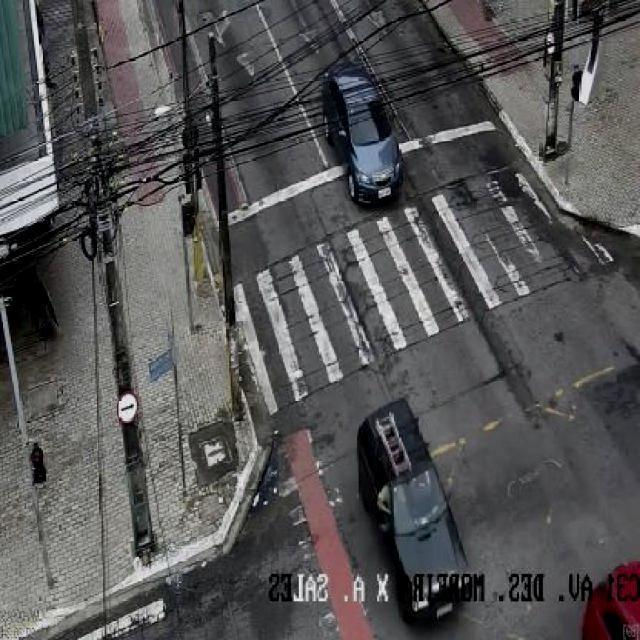Car: (345, 400, 485, 629), (308, 70, 406, 212)
